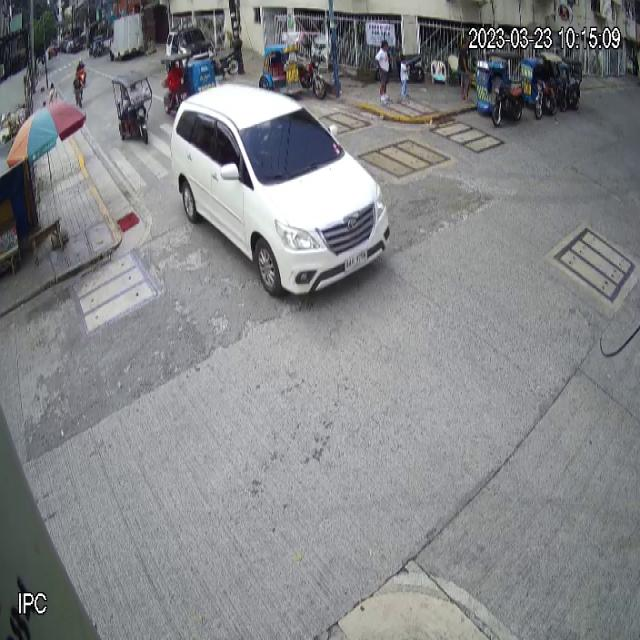Car: (168, 82, 392, 304)
Tricycle: (258, 29, 327, 100), (475, 51, 523, 128)
